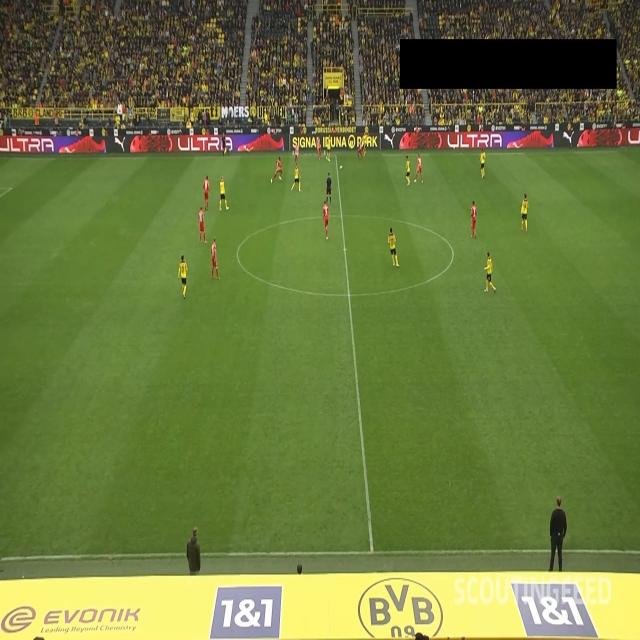ball: (339, 164, 343, 170)
